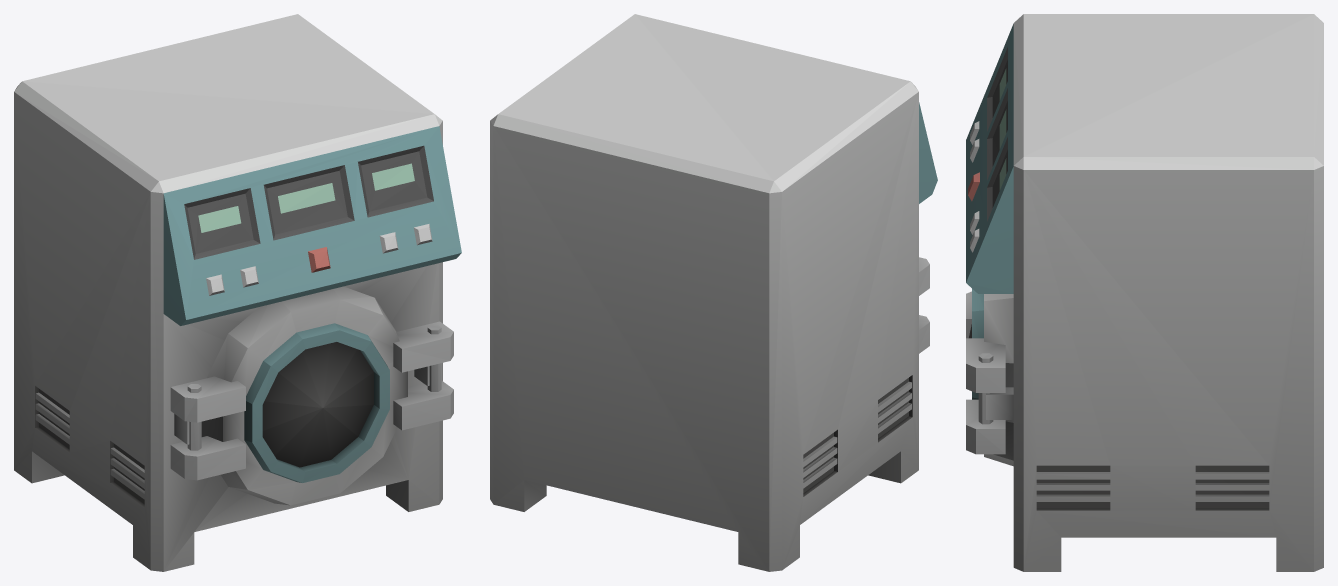
Rendered from autoclave.glb.
The picture shows the model from 3 angles, left to right: view 1: azimuth 30°, elevation 25°; view 2: azimuth 150°, elevation 25°; view 3: azimuth 270°, elevation 25°; orthographic projection. The views are drawn at different scales.
Visible parts, largest first — view 1: autoclave.001; view 2: autoclave.001; view 3: autoclave.001.
Part boxes in pixels (box(x1,y1,x2,y2)): autoclave.001: box(14, 14, 461, 571); autoclave.001: box(490, 14, 937, 571); autoclave.001: box(966, 14, 1323, 571).
Bounding box in the file's own units: 0.9 × 1.14 × 0.9.
